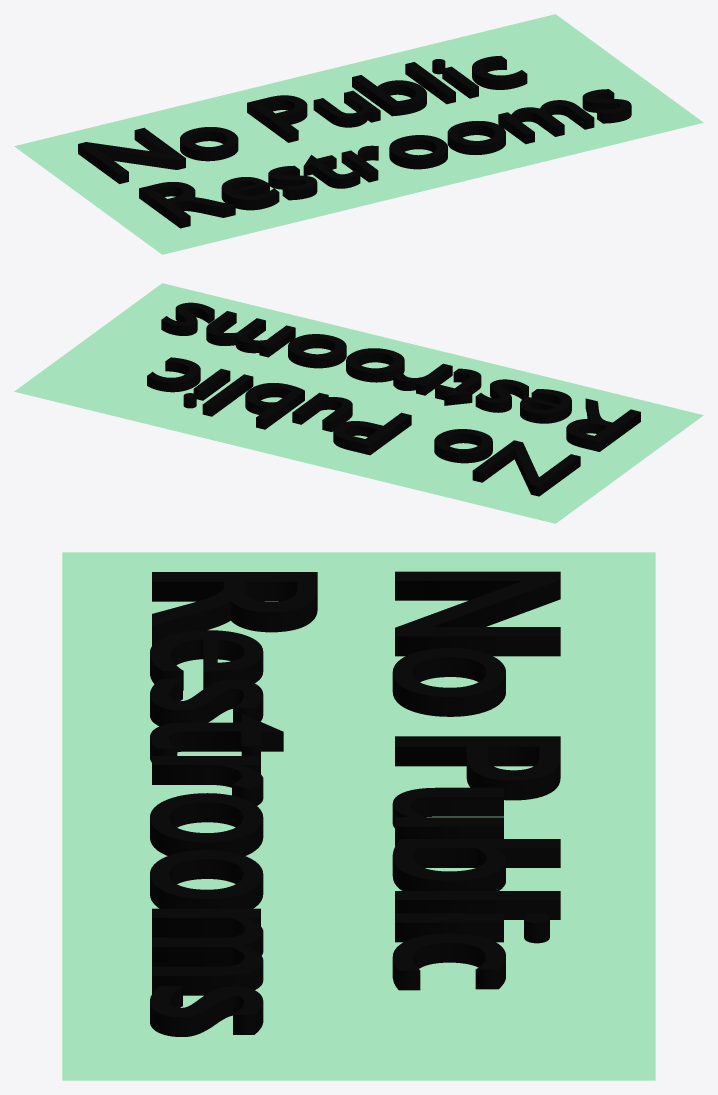
File: bathroomsign.fbx
The picture shows the model from 3 angles, top to bottom: view 1: azimuth 30°, elevation 25°; view 2: azimuth 150°, elevation 25°; view 3: azimuth 270°, elevation 25°; orthographic projection. The views are drawn at different scales.
Parts seen in each view (by area): view 1: Text; view 2: Text; view 3: Text.
Boxes of the visible parts, x1,y1,x2,y2 form: Text: (14,14,703,254); Text: (14,283,703,523); Text: (62,552,655,1080).
Bounding box in the file's own units: 515 × 22 × 244.
